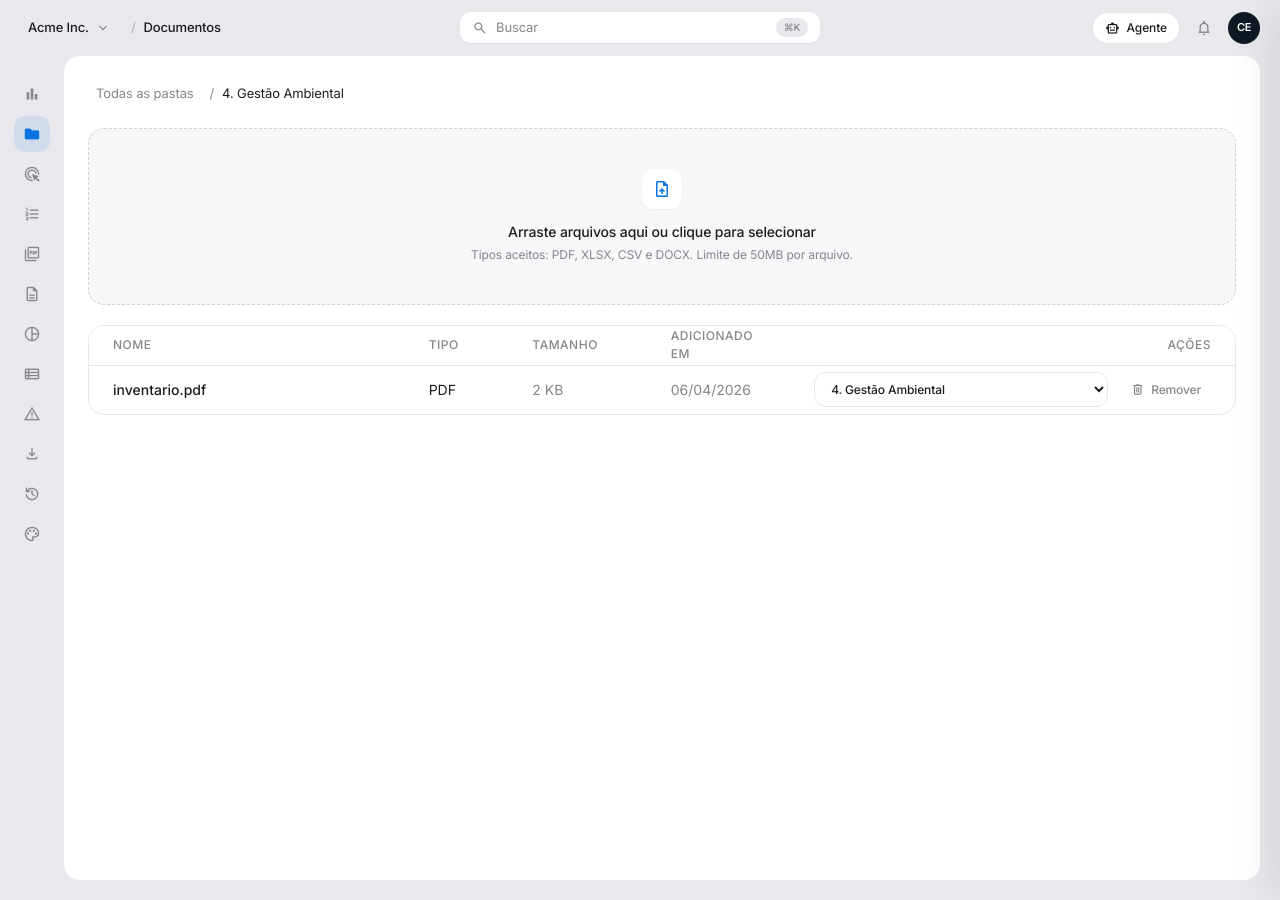
Test case: ProjectDocumentsPage › moves a document to another folder
Expected: the text "inventario.pdf" is shown, [113,381,206,398]
Select "3. Governança Corporativa" in the dropdown named "mover documento" at (961, 390), box [814,372,1108,407]
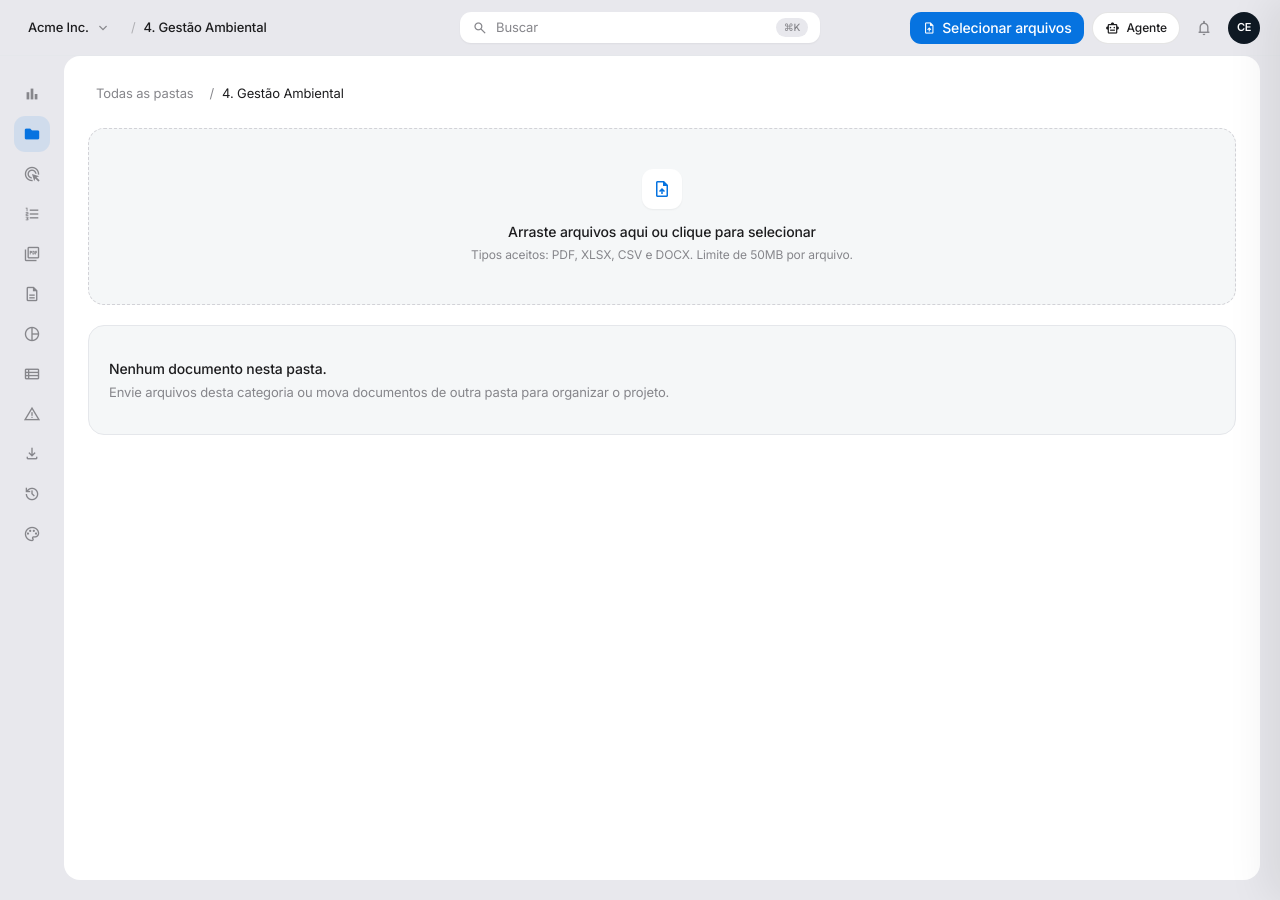
Result: the text "inventario.pdf" is gone
